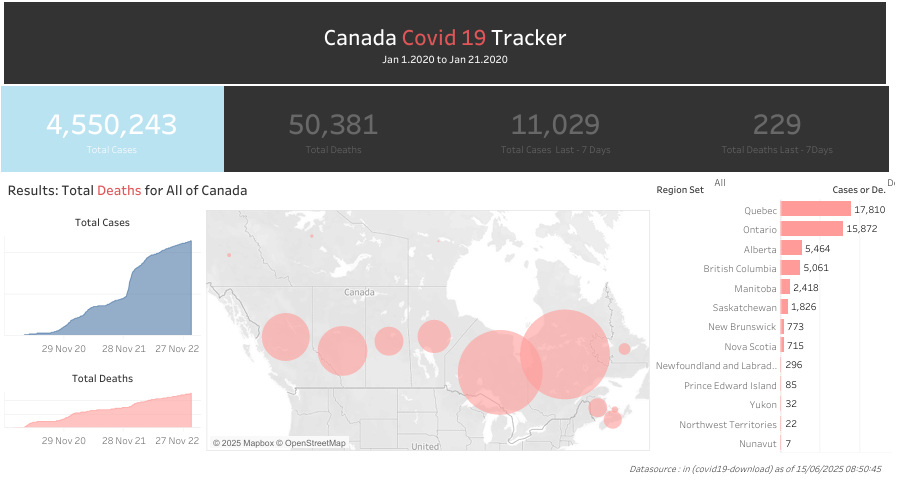

The dashboard page shown, as its layout file describes it:
{"tool":"tableau","page":{"name":"Covid Tracker","canvas":[1000,1000],"units":"permille","ordinal":0},"visuals":[{"type":"text","box":[5,9.8,990,107.2]},{"type":"worksheet","title":"Banner","mark":"Automatic","box":[5,117,990,193.5]},{"type":"worksheet","title":"Results","mark":"Automatic","box":[5,310.4,727.5,76.7]},{"type":"filter","title":"Line - Cases","param":"[federated.0redus918kvllf16jjlwb1lxsl7p].[Region Set]","box":[732.5,310.4,140.6,76.7]},{"type":"parameter","param":"[Parameters].[Parameter 1]","box":[873.1,310.4,121.9,76.7]},{"type":"worksheet","title":"Line - Cases","mark":"Area","rows":["totalcases"],"cols":["date"],"box":[5,387.2,225.6,245.1]},{"type":"worksheet","title":"Map - Cases","mark":"Circle","box":[230.6,387.2,501.9,1.2]},{"type":"worksheet","title":"Column - Cases","mark":"Automatic","rows":["prname"],"cols":["totalcases"],"box":[732.5,387.2,262.5,490.2]},{"type":"worksheet","title":"Map - Deaths","mark":"Circle","box":[230.6,388.4,501.9,560]},{"type":"worksheet","title":"Column - Deaths","mark":"Automatic","rows":["prname"],"cols":["numdeaths"],"box":[734.4,423.7,262.5,520.9]},{"type":"worksheet","title":"Line - Deaths","mark":"Area","rows":["numdeaths"],"cols":["date"],"box":[5,632.2,225.6,316.2]},{"type":"worksheet","title":"Footer","mark":"Automatic","box":[5,948.4,990,41.8]}]}

Visuals, with their boxes on the dashboard's canvas, which has no fixed pixel size, in thousandths of its width and height (x1, y1, x2, y2). These are canvas units, not pixel positions in the 900x485 screenshot, which may show the page scaled, cropped or inside an application window:
text: {"x1": 5, "y1": 10, "x2": 995, "y2": 117}
"Banner" worksheet: {"x1": 5, "y1": 117, "x2": 995, "y2": 310}
"Results" worksheet: {"x1": 5, "y1": 310, "x2": 732, "y2": 387}
"Line - Cases" filter: {"x1": 732, "y1": 310, "x2": 873, "y2": 387}
parameter: {"x1": 873, "y1": 310, "x2": 995, "y2": 387}
"Line - Cases" worksheet (Area marks): {"x1": 5, "y1": 387, "x2": 231, "y2": 632}
"Map - Cases" worksheet (Circle marks): {"x1": 231, "y1": 387, "x2": 732, "y2": 388}
"Column - Cases" worksheet: {"x1": 732, "y1": 387, "x2": 995, "y2": 877}
"Map - Deaths" worksheet (Circle marks): {"x1": 231, "y1": 388, "x2": 732, "y2": 948}
"Column - Deaths" worksheet: {"x1": 734, "y1": 424, "x2": 997, "y2": 945}
"Line - Deaths" worksheet (Area marks): {"x1": 5, "y1": 632, "x2": 231, "y2": 948}
"Footer" worksheet: {"x1": 5, "y1": 948, "x2": 995, "y2": 990}
